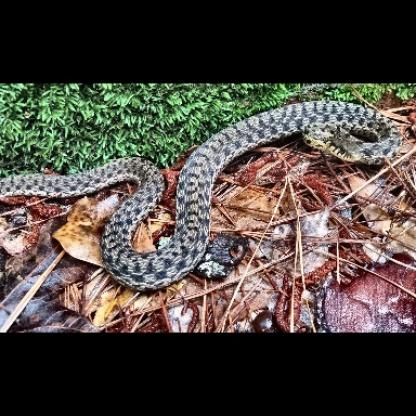Snake: (0, 95, 400, 290)
